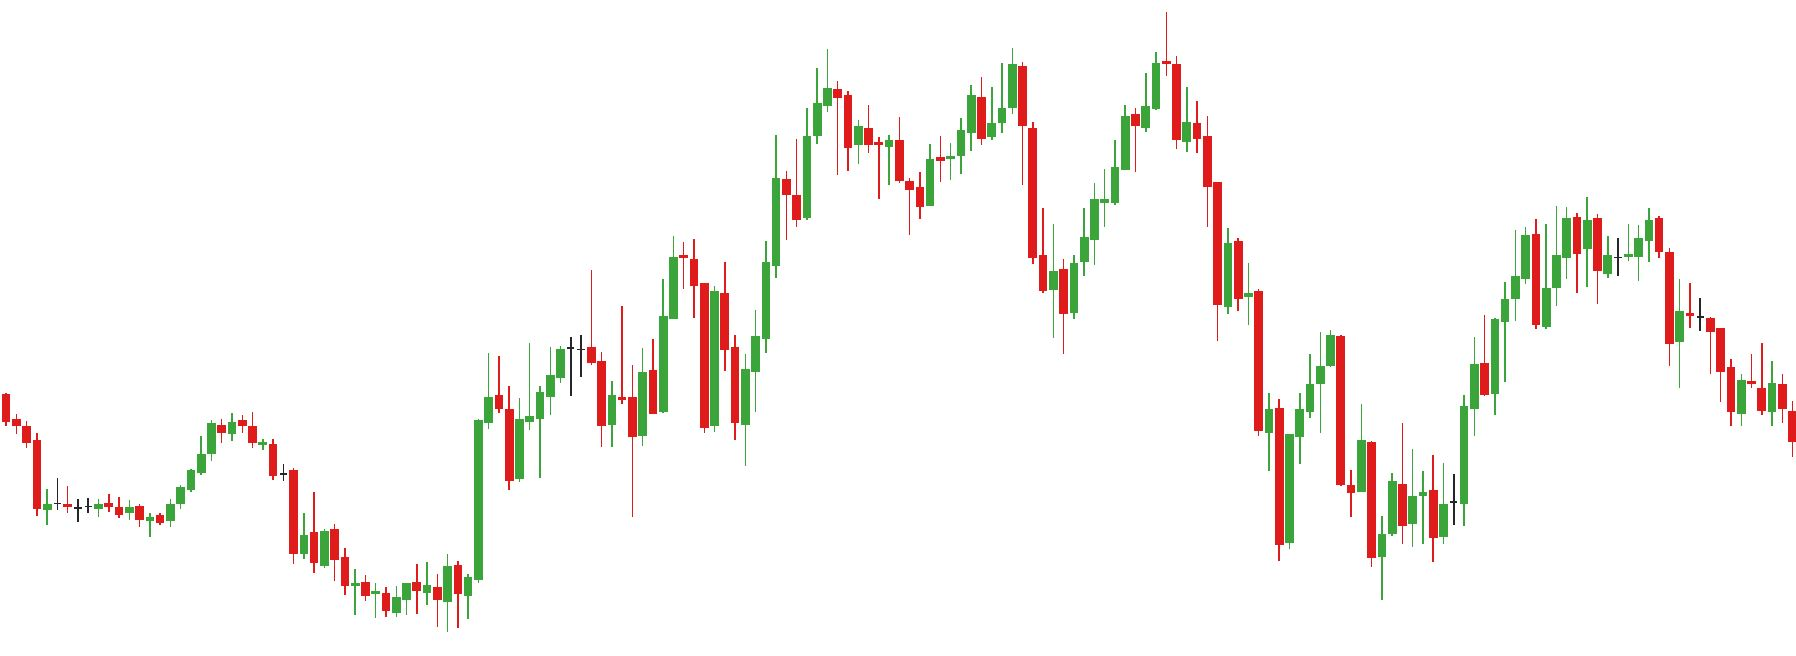buy: (1273, 404, 1388, 608), (502, 370, 646, 514)
